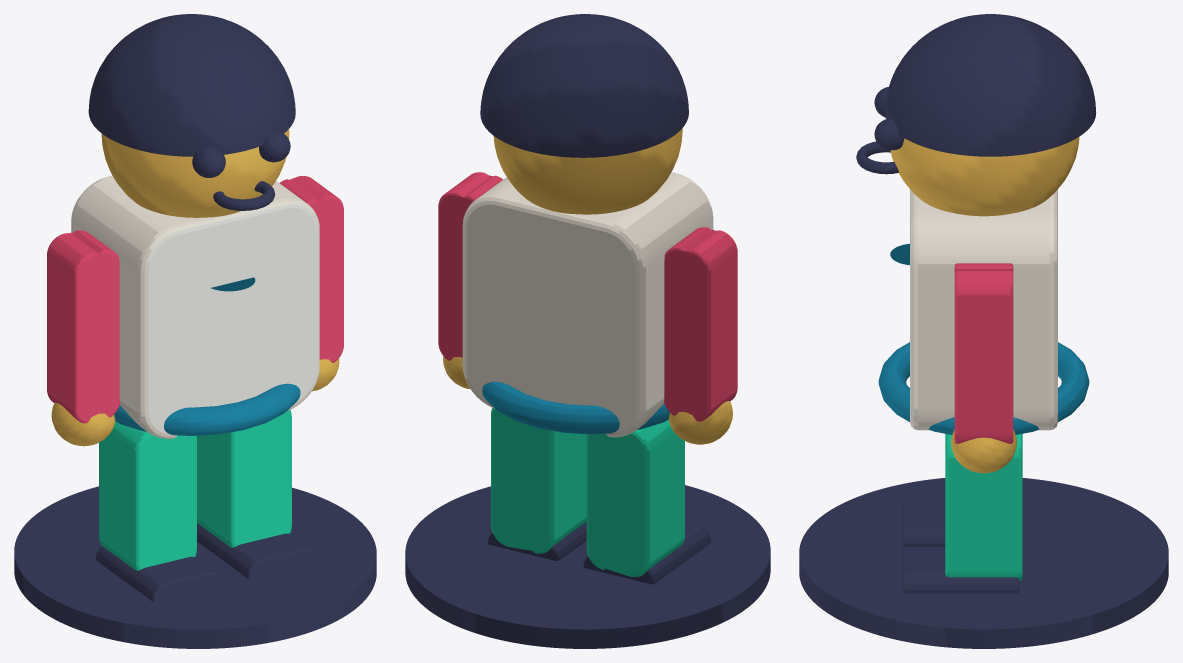
The model's file is 1085_古文观止_韩愈.glb.
The picture shows the model from 3 angles, left to right: view 1: azimuth 30°, elevation 25°; view 2: azimuth 150°, elevation 25°; view 3: azimuth 270°, elevation 25°; orthographic projection.
Parts seen in each view (by area): view 1: card_1085; view 2: card_1085; view 3: card_1085.
Boxes of the visible parts, x1=… form: card_1085: x1=14, y1=14, x2=376, y2=648; card_1085: x1=405, y1=14, x2=770, y2=648; card_1085: x1=799, y1=14, x2=1168, y2=648.
Size of the model in its own units: 0.6001 by 1 by 0.6111.
